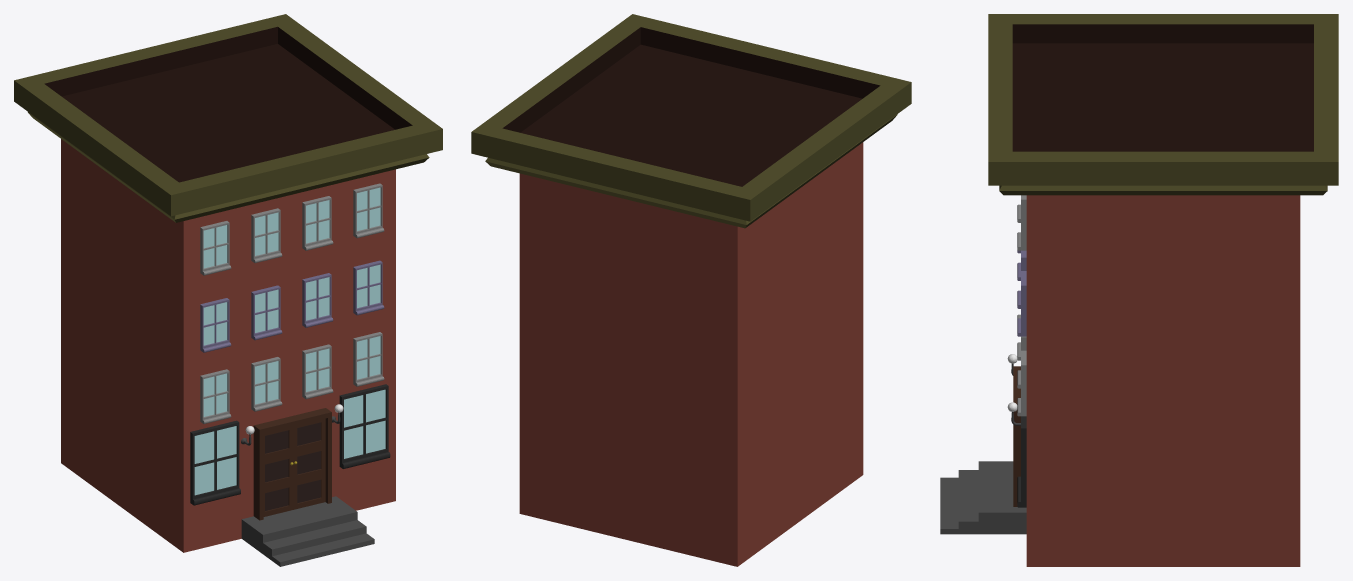
The model's file is BLOC_ADI.fbx.
3 renders of one model, left to right at view 1: azimuth 30°, elevation 25°; view 2: azimuth 150°, elevation 25°; view 3: azimuth 270°, elevation 25°, orthographic. The views are drawn at different scales.
Visible parts, largest first — view 1: bloc, USA, Geamuri, Geamuri.001, gemuri, Scari, geam mare.001, geam mare; view 2: bloc; view 3: bloc, Scari, USA, Geamuri, gemuri, geam mare.
Boxes of the visible parts, <box> form: bloc: <box>14,14,442,552</box>; USA: <box>253,408,331,520</box>; Geamuri: <box>200,260,384,352</box>; Geamuri.001: <box>200,183,384,275</box>; gemuri: <box>200,332,384,423</box>; Scari: <box>241,496,374,566</box>; geam mare.001: <box>190,420,240,505</box>; geam mare: <box>339,384,390,468</box>; bloc: <box>471,14,911,566</box>; bloc: <box>988,14,1338,566</box>; Scari: <box>940,461,1026,534</box>; USA: <box>1013,366,1020,506</box>; Geamuri: <box>1017,250,1026,336</box>; gemuri: <box>1017,314,1026,416</box>; geam mare: <box>1017,416,1026,507</box>.
Size of what is drawn, in the model's own units: 776 by 1029 by 881.
